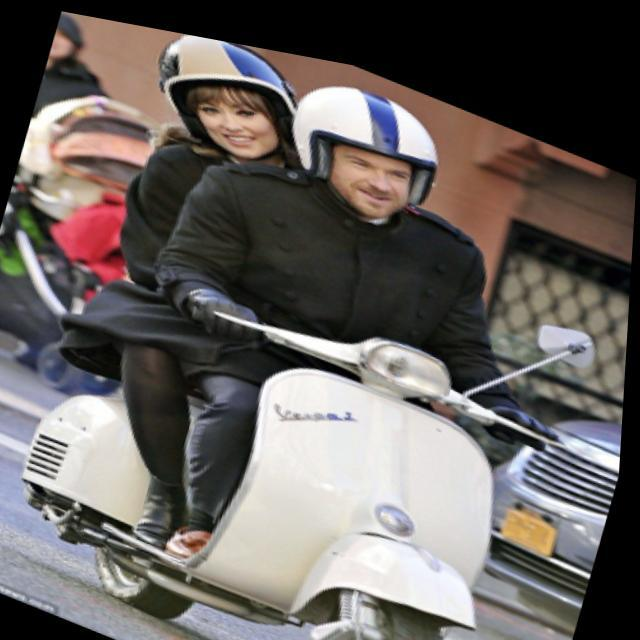Helmet: (290, 80, 446, 223), (150, 26, 297, 175)
